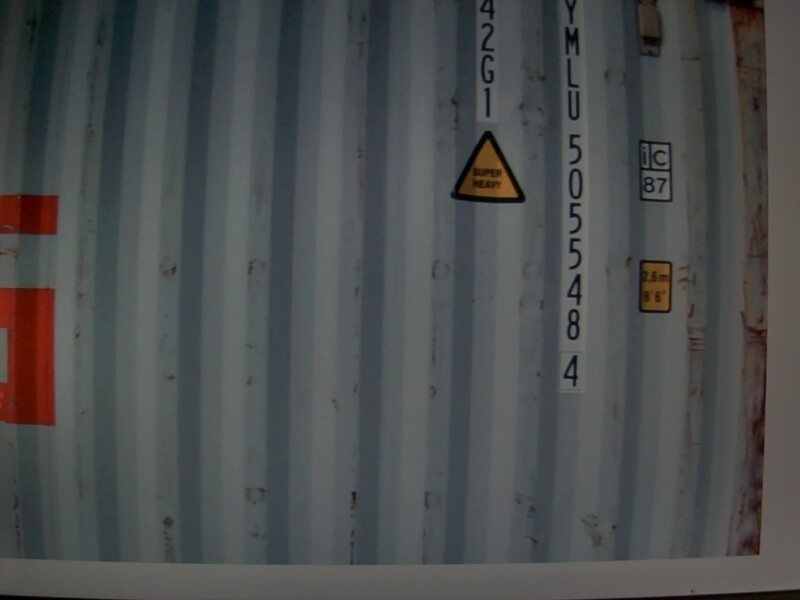container_no_door: (148, 56, 673, 508)
